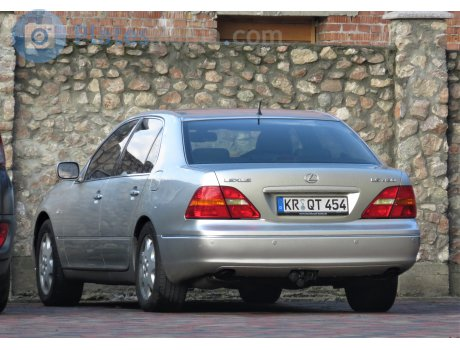License Plates: (283, 196, 352, 210)
